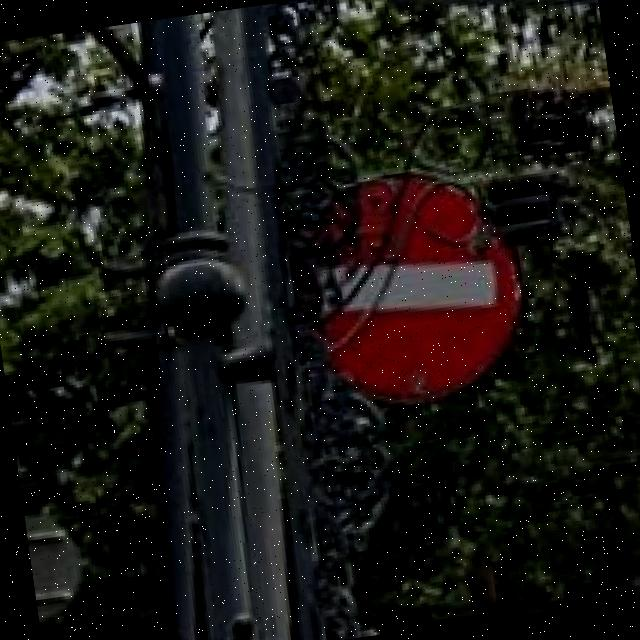Zakaz wjazdu: (312, 165, 533, 408)
